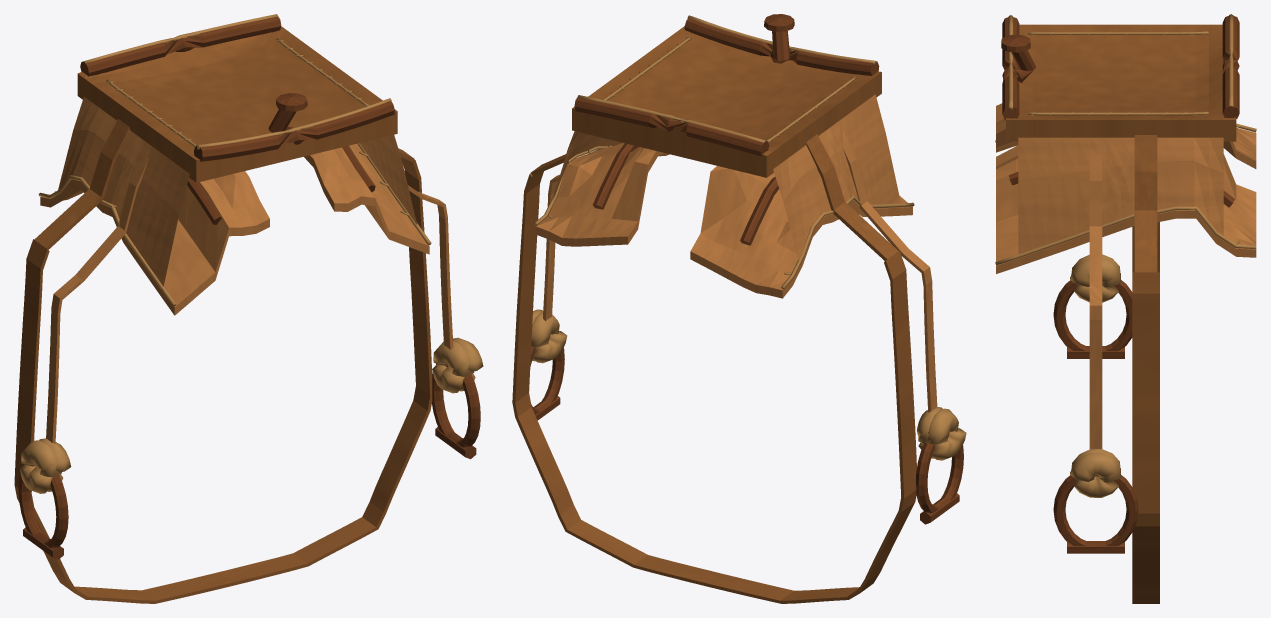
File: saddle.glb
3 renders of one model, left to right at view 1: azimuth 30°, elevation 25°; view 2: azimuth 150°, elevation 25°; view 3: azimuth 270°, elevation 25°, orthographic. The views are drawn at different scales.
Parts seen in each view (by area): view 1: Contoured leather seat, Contoured belly girth, Supple leather side skirt, Fitted leather contact pad -1, Fitted leather contact pad 1, Left continuous stirrup leather, Rear cantle, Front pommel, Left girth upper attachment, Left stirrup loop binding, Right stirrup loop binding, Left wooden stirrup (+7 smaller); view 2: Contoured leather seat, Contoured belly girth, Fitted leather contact pad -1, Supple leather side skirt, Fitted leather contact pad 1, Left continuous stirrup leather, Rear cantle, Front pommel, Left girth upper attachment, Left stirrup loop binding, Low wooden saddle tree rail, Left wooden stirrup (+7 smaller); view 3: Contoured leather seat, Supple leather side skirt, Contoured belly girth, Fitted leather contact pad 1, Right continuous stirrup leather, Right girth upper attachment, Right stirrup loop binding, Right wooden stirrup, Left wooden stirrup, Rear cantle, Left stirrup loop binding, Fitted leather contact pad -1 (+9 smaller).
Boxes of the visible parts, left/top/right/bottom form: Contoured leather seat: left=77, top=26, right=397, bottom=182; Contoured belly girth: left=14, top=157, right=432, bottom=603; Supple leather side skirt: left=58, top=96, right=417, bottom=286; Fitted leather contact pad -1: left=40, top=171, right=269, bottom=315; Fitted leather contact pad 1: left=304, top=144, right=429, bottom=254; Left continuous stirrup leather: left=46, top=157, right=148, bottom=443; Rear cantle: left=80, top=16, right=281, bottom=76; Front pommel: left=194, top=101, right=394, bottom=161; Left girth upper attachment: left=34, top=119, right=129, bottom=249; Left stirrup loop binding: left=20, top=438, right=71, bottom=493; Right stirrup loop binding: left=432, top=337, right=483, bottom=393; Left wooden stirrup: left=18, top=474, right=68, bottom=547; Contoured leather seat: left=572, top=26, right=881, bottom=177; Contoured belly girth: left=512, top=171, right=916, bottom=603; Fitted leather contact pad -1: left=690, top=166, right=912, bottom=298; Supple leather side skirt: left=553, top=94, right=900, bottom=260; Fitted leather contact pad 1: left=536, top=143, right=669, bottom=246; Left continuous stirrup leather: left=842, top=131, right=937, bottom=412; Rear cantle: left=574, top=97, right=768, bottom=156; Front pommel: left=684, top=18, right=879, bottom=75; Left girth upper attachment: left=806, top=134, right=898, bottom=260; Left stirrup loop binding: left=916, top=407, right=966, bottom=460; Low wooden saddle tree rail: left=593, top=143, right=779, bottom=245; Left wooden stirrup: left=916, top=442, right=963, bottom=512; Contoured leather seat: left=1006, top=24, right=1236, bottom=141; Supple leather side skirt: left=1018, top=137, right=1223, bottom=254; Contoured belly girth: left=1132, top=222, right=1159, bottom=603; Fitted leather contact pad 1: left=996, top=144, right=1256, bottom=273; Right continuous stirrup leather: left=1089, top=150, right=1102, bottom=449; Right girth upper attachment: left=1134, top=135, right=1157, bottom=272; Right stirrup loop binding: left=1070, top=449, right=1120, bottom=497; Right wooden stirrup: left=1053, top=475, right=1138, bottom=545; Left wooden stirrup: left=1053, top=280, right=1132, bottom=350; Rear cantle: left=1222, top=15, right=1239, bottom=118; Left stirrup loop binding: left=1070, top=254, right=1120, bottom=302; Fitted leather contact pad -1: left=996, top=103, right=1256, bottom=168.
Bounding box in the file's own units: 0.9995 × 1.14 × 0.5225.
4 materials, 4 textured.
